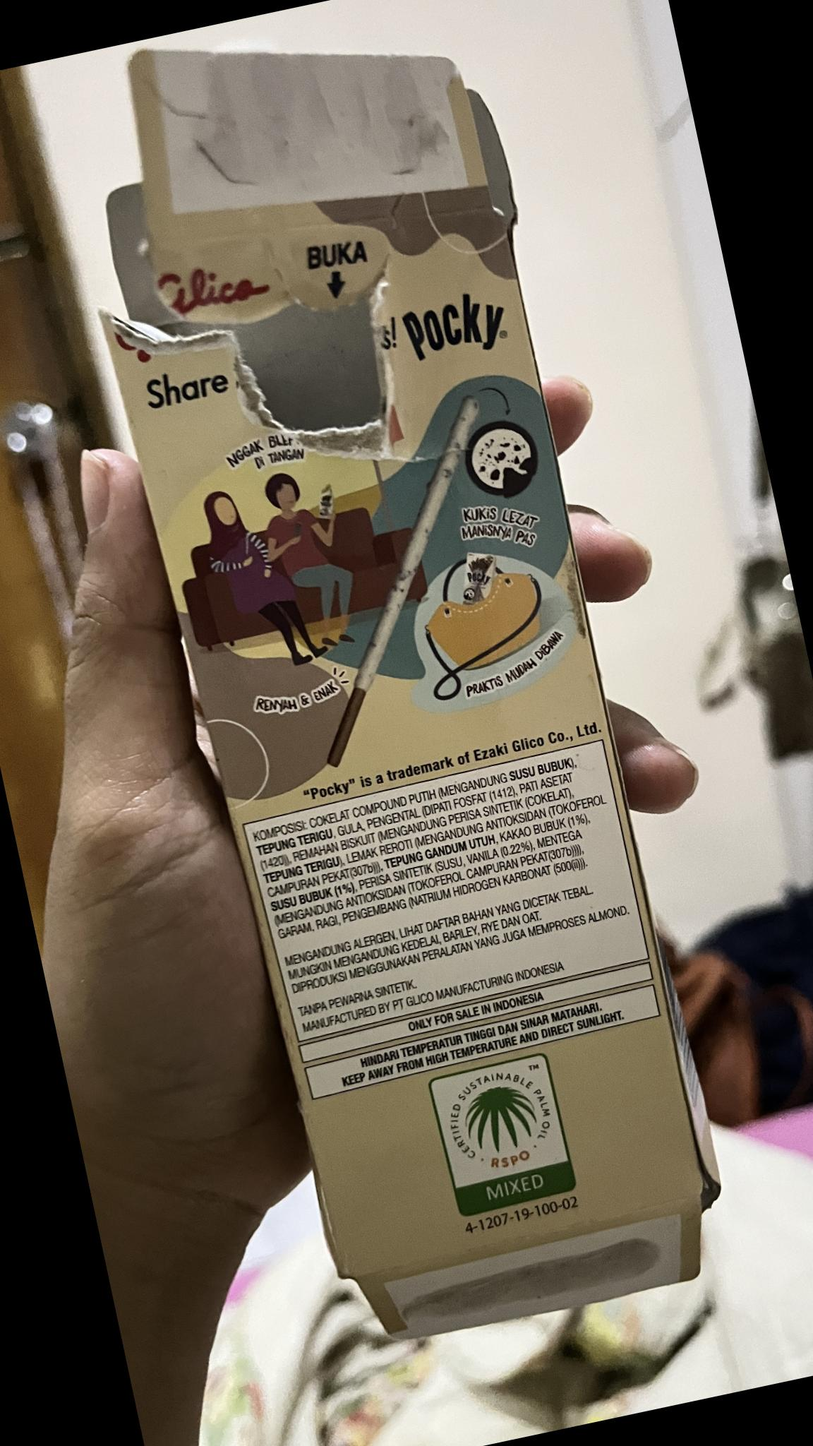Kertas: (102, 204, 710, 1285)
